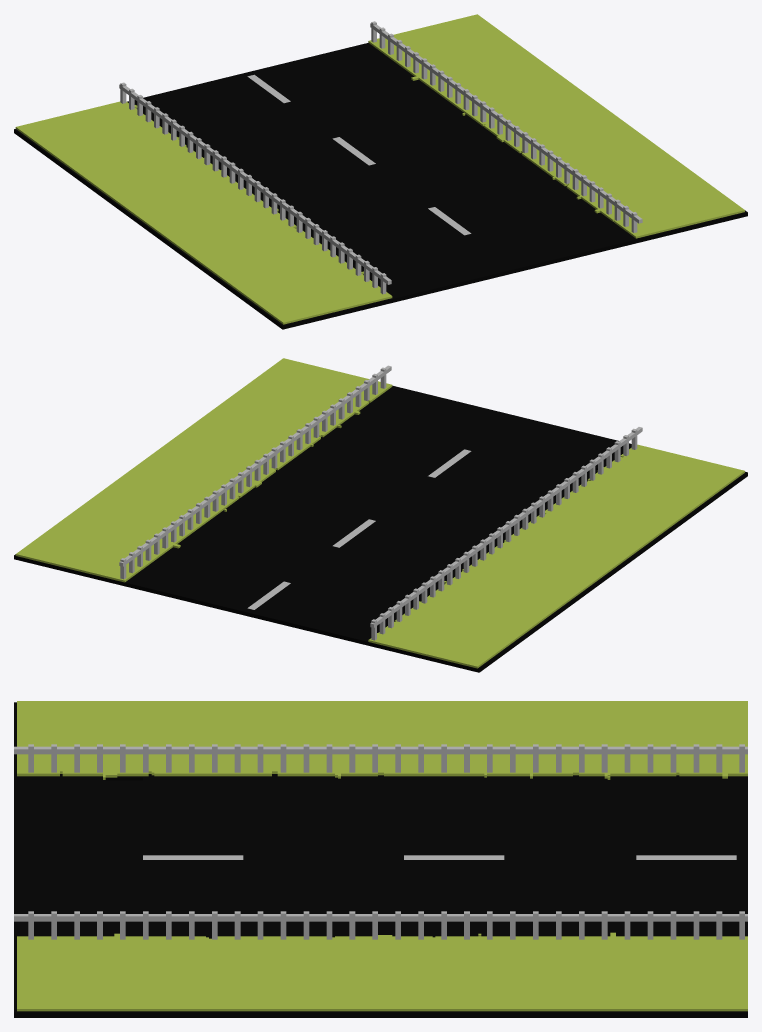
File: Road.obj
The picture shows the model from 3 angles, top to bottom: view 1: azimuth 30°, elevation 25°; view 2: azimuth 150°, elevation 25°; view 3: azimuth 270°, elevation 25°; orthographic projection. The views are drawn at different scales.
Size of the model in its own units: 25.6 by 1.3 by 25.6.
Materials: 1 (1 with a texture image).
